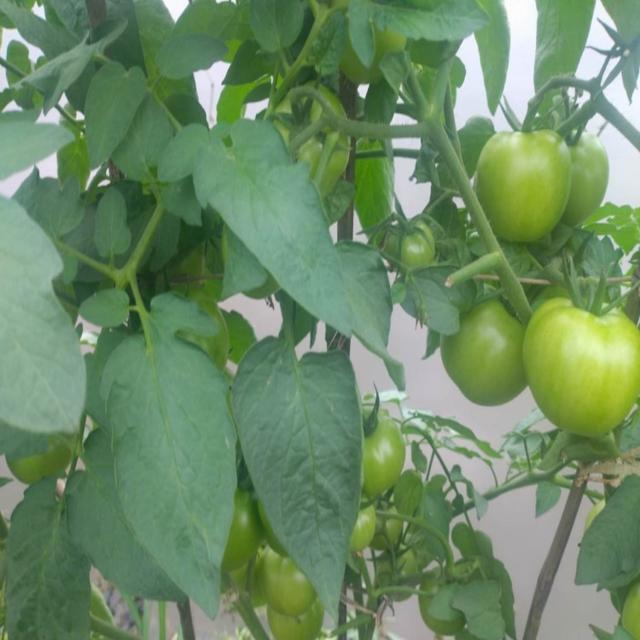tomato: (528, 289, 640, 440), (473, 130, 569, 244), (441, 295, 531, 412), (274, 81, 352, 185), (550, 127, 610, 225), (357, 400, 410, 497), (254, 549, 315, 615), (381, 212, 434, 272), (218, 492, 264, 560), (265, 601, 329, 640), (345, 496, 379, 550)
